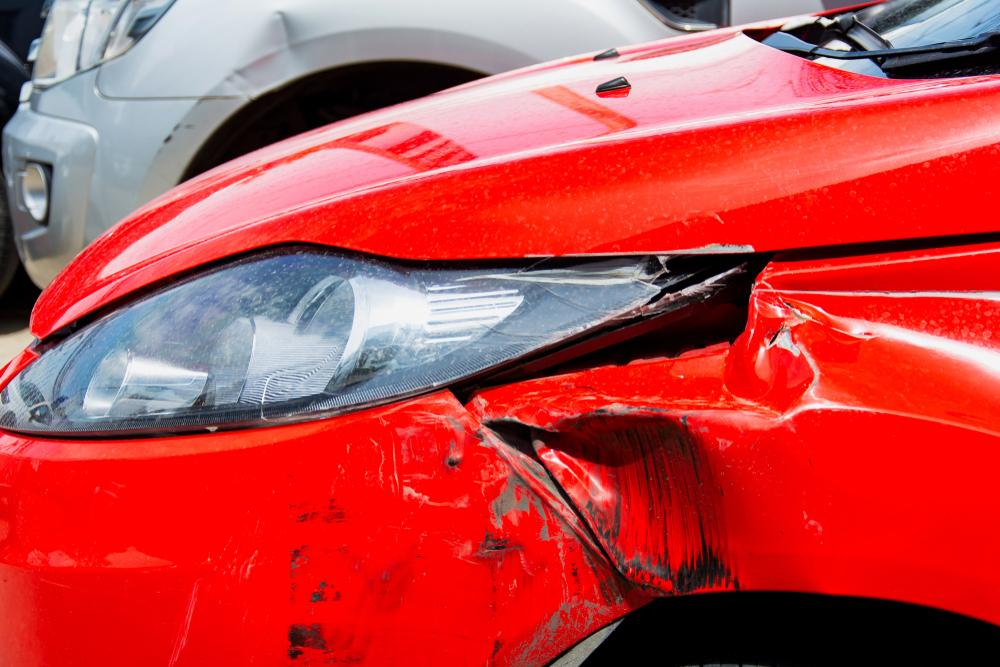dent: (481, 281, 825, 592), (230, 10, 301, 92)
lamp broken: (0, 245, 753, 438)
scratch: (276, 387, 626, 667)
